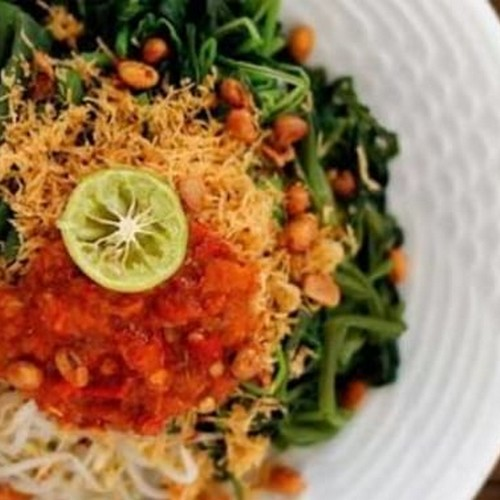sate lilit: (13, 7, 387, 500)
serombotan: (1, 16, 378, 500)
